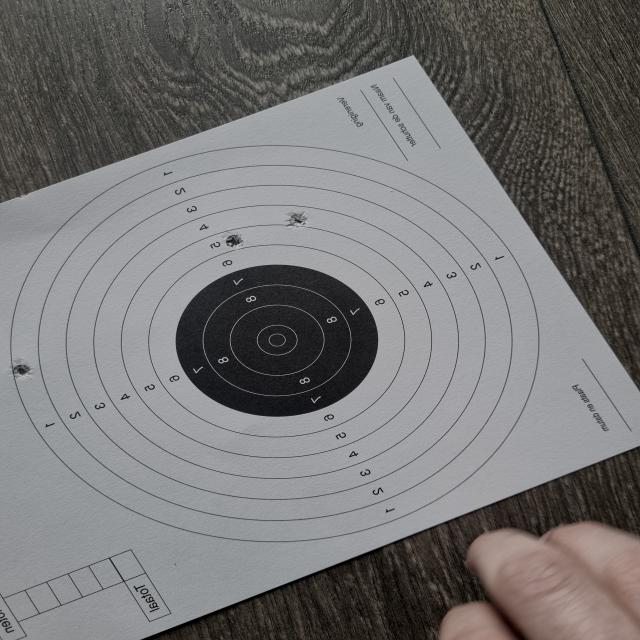1: (10, 360, 36, 382)
5: (285, 211, 308, 228), (226, 234, 244, 248)
Target: (7, 145, 538, 544)
black_contour: (175, 264, 379, 417)
